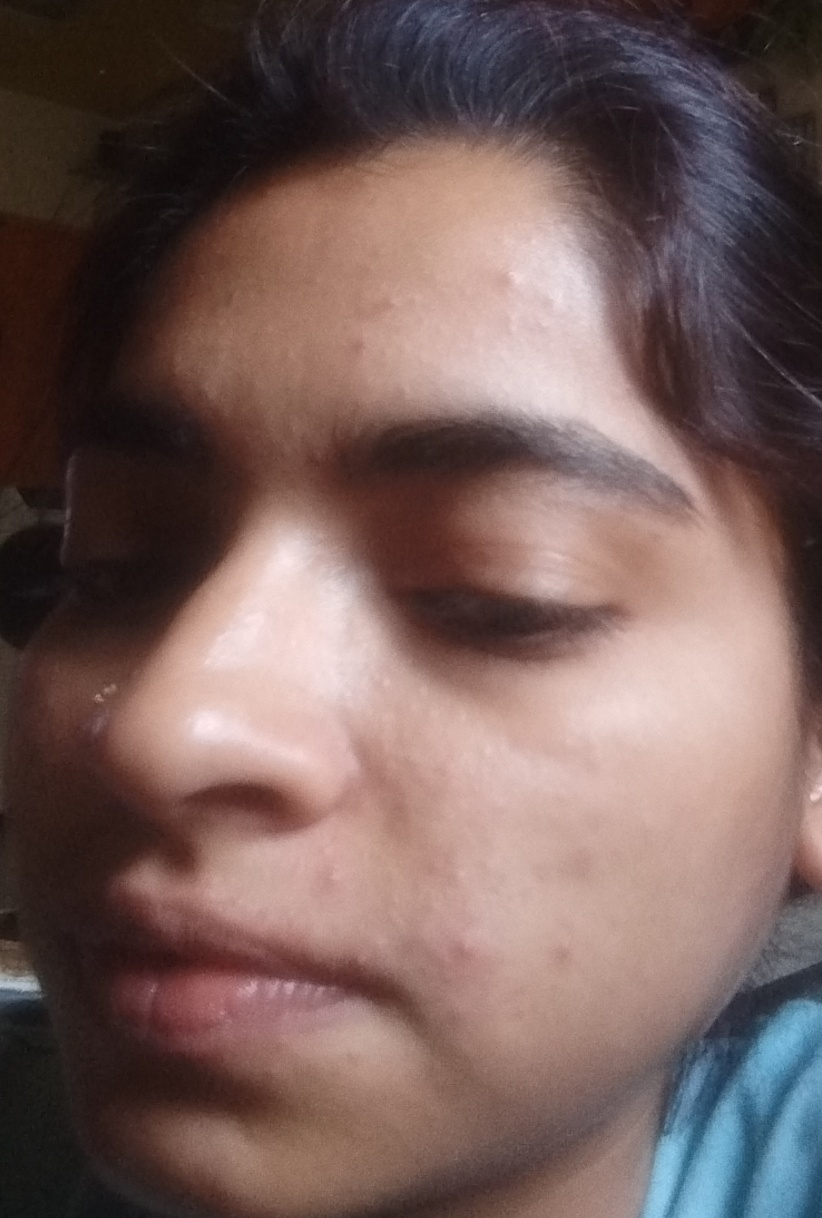closed_comedone: (312, 842, 361, 912), (538, 920, 590, 979)
papule: (437, 914, 503, 971), (483, 239, 532, 303)
